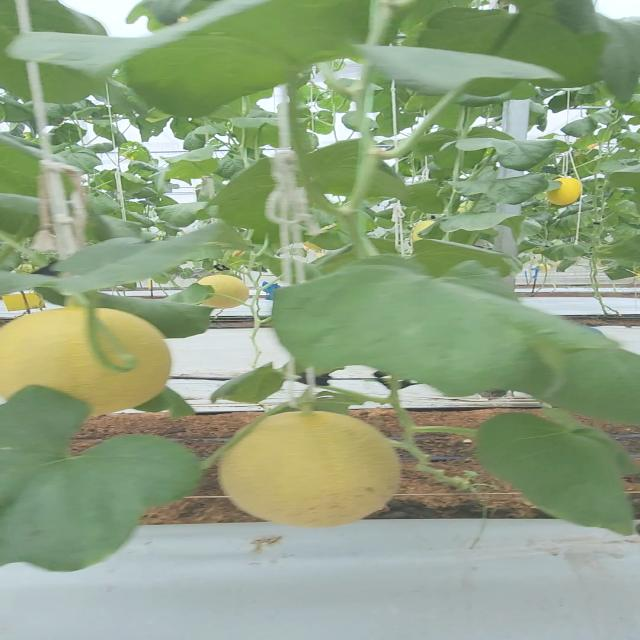Front-melon: (222, 417, 399, 528), (0, 309, 166, 398)
Rear-melon: (198, 272, 253, 306), (550, 177, 584, 206)
